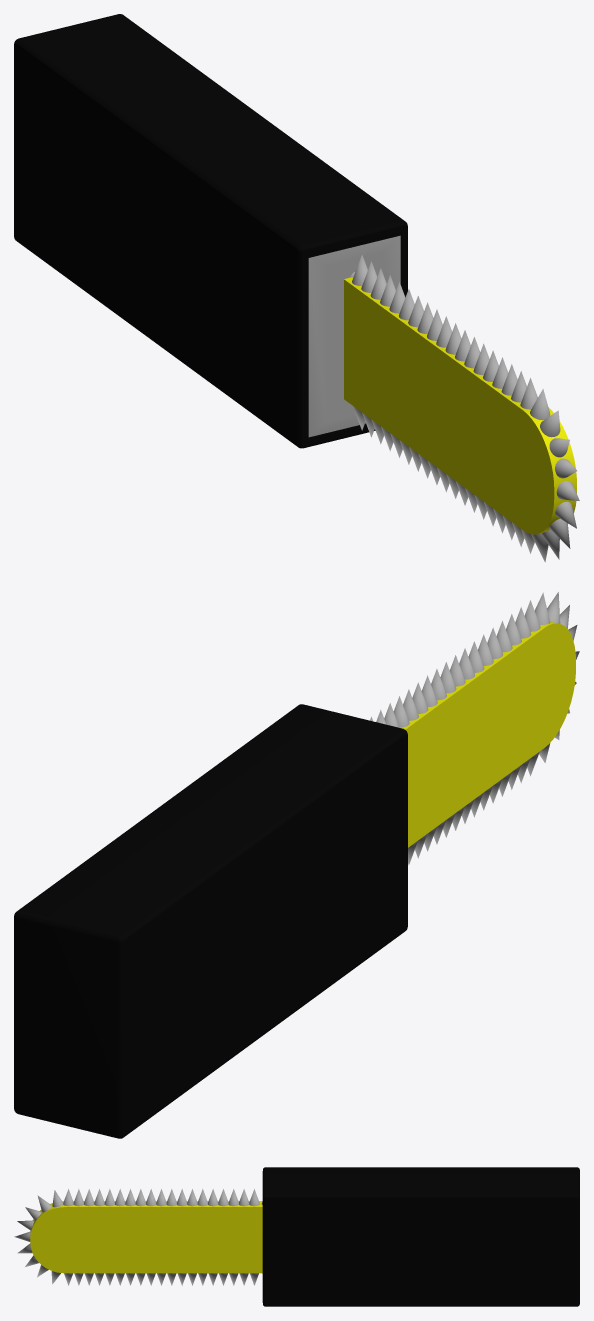
The model's file is cutter1.fbx.
3 renders of one model, top to bottom at view 1: azimuth 30°, elevation 25°; view 2: azimuth 150°, elevation 25°; view 3: azimuth 270°, elevation 25°, orthographic. The views are drawn at different scales.
Parts seen in each view (by area): view 1: pCube1, pCube2; view 2: pCube1, pCube2; view 3: pCube1, pCube2.
Boxes of the visible parts, <box> form: pCube1: <box>14,14,407,448</box>; pCube2: <box>344,277,576,534</box>; pCube1: <box>14,704,407,1138</box>; pCube2: <box>400,621,575,847</box>; pCube1: <box>262,1167,579,1306</box>; pCube2: <box>30,1201,262,1273</box>.
Bounding box in the file's own units: 2.38 × 4.18 × 19.16.
